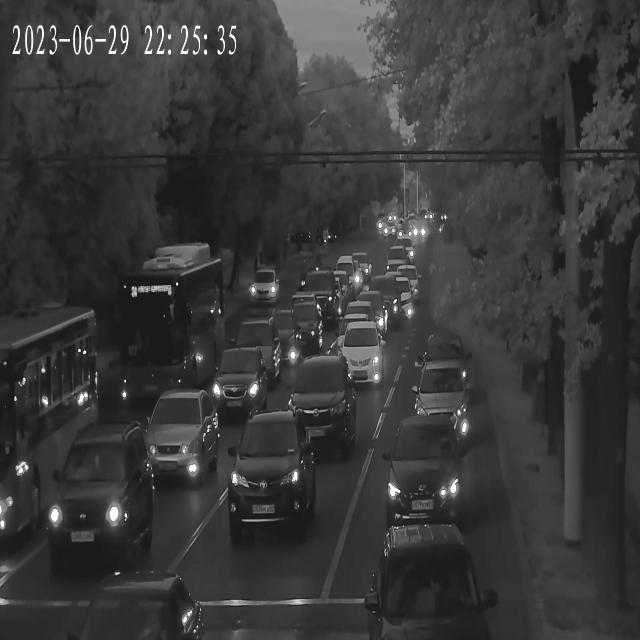Bus: (0, 291, 96, 548), (124, 245, 228, 397)
Car: (48, 423, 156, 562), (365, 524, 493, 640), (227, 414, 315, 534), (380, 417, 470, 532), (133, 393, 220, 485), (76, 578, 200, 640), (405, 362, 472, 448), (282, 355, 352, 436), (401, 405, 473, 465), (210, 349, 271, 411), (333, 325, 389, 390), (230, 322, 284, 384), (265, 302, 321, 353), (297, 271, 346, 320), (368, 272, 414, 323), (340, 303, 389, 347), (330, 258, 366, 299), (386, 266, 422, 302), (251, 270, 284, 304), (385, 247, 411, 273), (396, 238, 418, 259)
